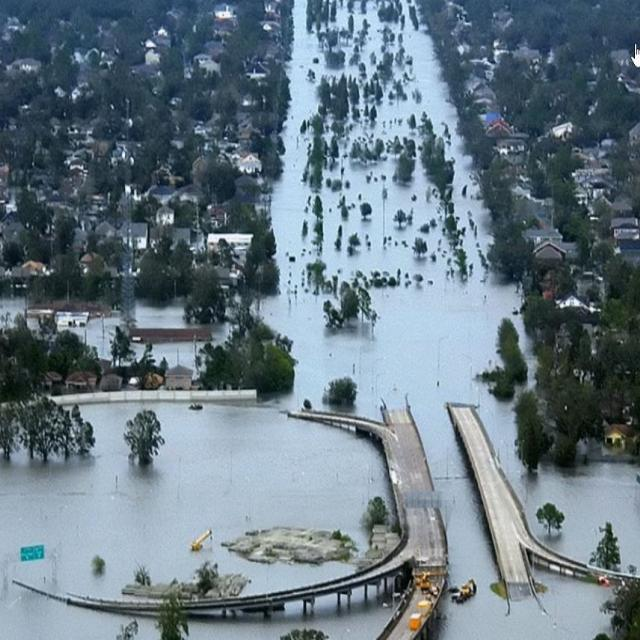flooded_areas: (4, 293, 637, 639), (284, 0, 499, 339)
